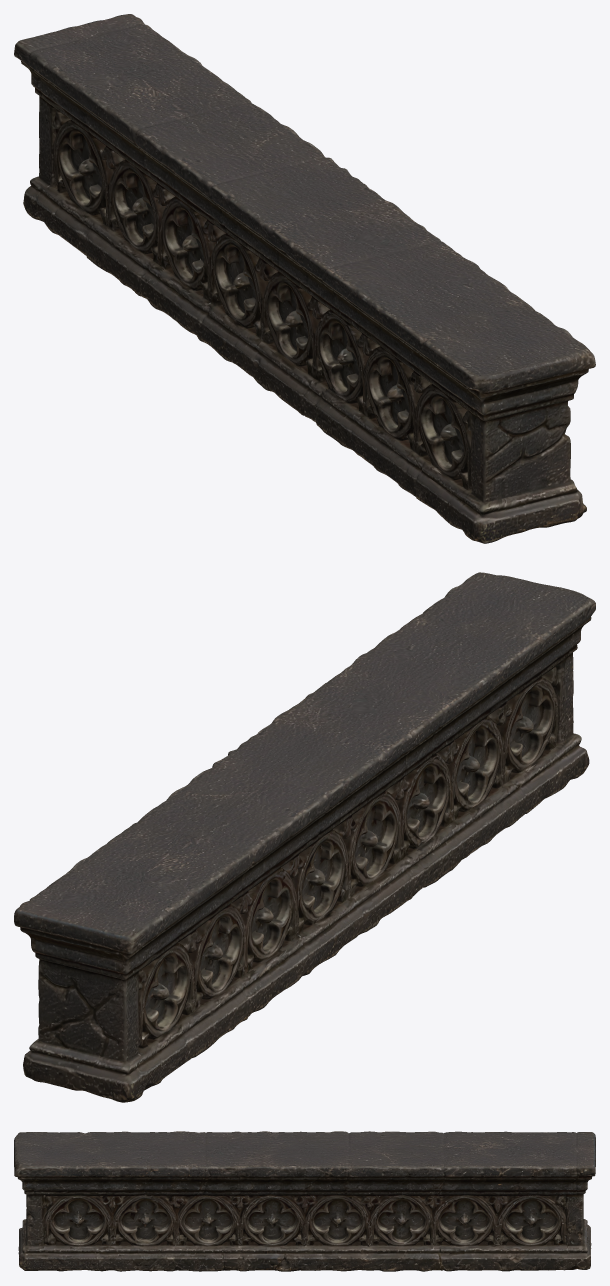
Rendered from raw_lintel2.glb.
The picture shows the model from 3 angles, top to bottom: view 1: azimuth 30°, elevation 25°; view 2: azimuth 150°, elevation 25°; view 3: azimuth 270°, elevation 25°; orthographic projection. The views are drawn at different scales.
Parts seen in each view (by area): view 1: lintel2; view 2: lintel2; view 3: lintel2.
Part boxes in pixels (x1,y1,x2,y2): lintel2: (14,14,595,543); lintel2: (14,572,595,1102); lintel2: (14,1131,595,1271).
Size of the model in its own units: 0.1481 by 0.2013 by 1.
1 material, 1 textured.
